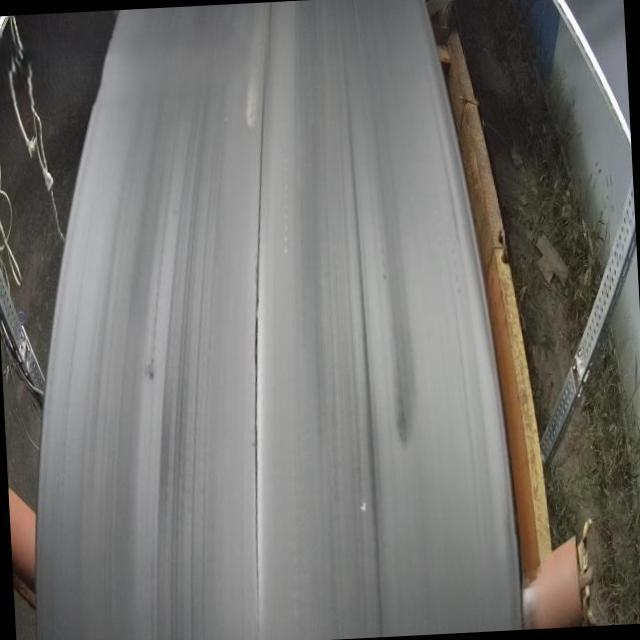Tear: (252, 0, 278, 634)
